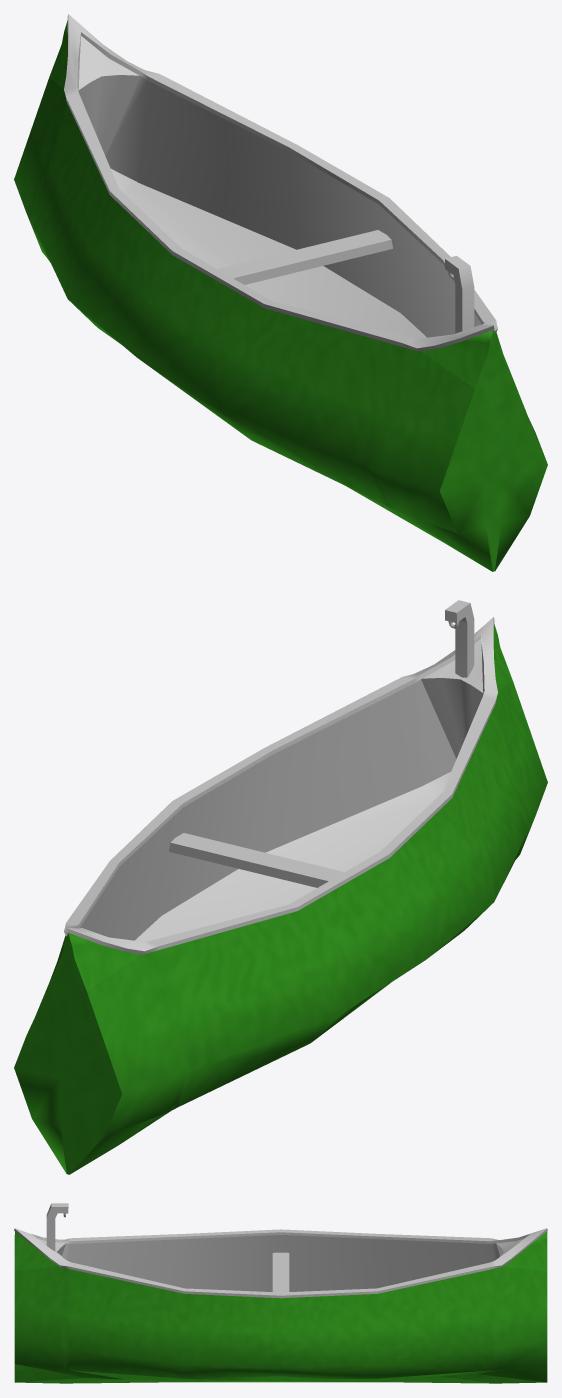
Rendered from Boat_FBX.fbx.
3 views of the same model, one above another, from view 1: azimuth 30°, elevation 25°; view 2: azimuth 150°, elevation 25°; view 3: azimuth 270°, elevation 25° (orthographic). The views are drawn at different scales.
Parts seen in each view (by area): view 1: Canoe, Plank, Lamp_Poll; view 2: Canoe, Plank, Lamp_Poll; view 3: Canoe, Plank, Lamp_Poll.
Boxes of the visible parts, x1=… form: Canoe: x1=14, y1=14, x2=547, y2=571; Plank: x1=217, y1=230, x2=392, y2=284; Lamp_Poll: x1=445, y1=255, x2=474, y2=333; Canoe: x1=14, y1=617, x2=547, y2=1174; Plank: x1=169, y1=833, x2=344, y2=887; Lamp_Poll: x1=445, y1=600, x2=474, y2=677; Canoe: x1=14, y1=1228, x2=547, y2=1383; Plank: x1=272, y1=1252, x2=289, y2=1292; Lamp_Poll: x1=46, y1=1203, x2=68, y2=1250.
Bounding box in the file's own units: 10.27 × 9.62 × 26.29.
